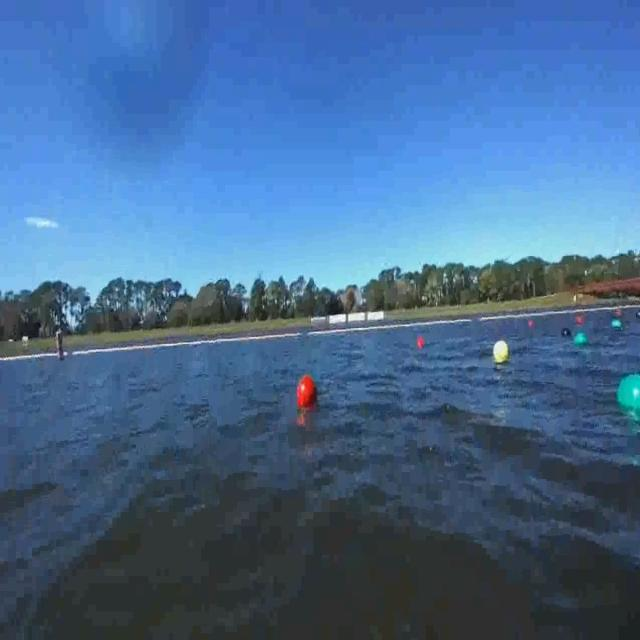black-buoy: (561, 326, 572, 337)
green-buoy: (615, 375, 640, 413), (574, 335, 587, 349), (614, 322, 623, 333)
red-buoy: (298, 375, 319, 411), (418, 336, 423, 349)
yellow-buoy: (493, 340, 509, 366)
